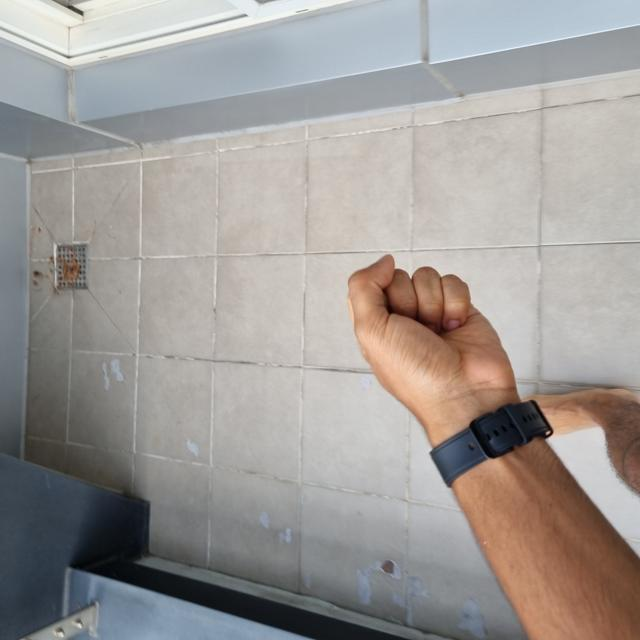Rock: (198, 345, 380, 514)
